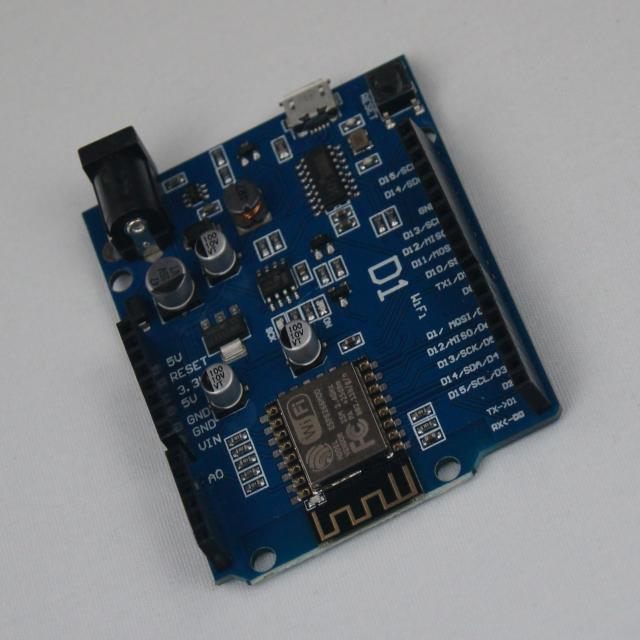Arduino Uno WiFi Shield: (79, 57, 559, 584)
